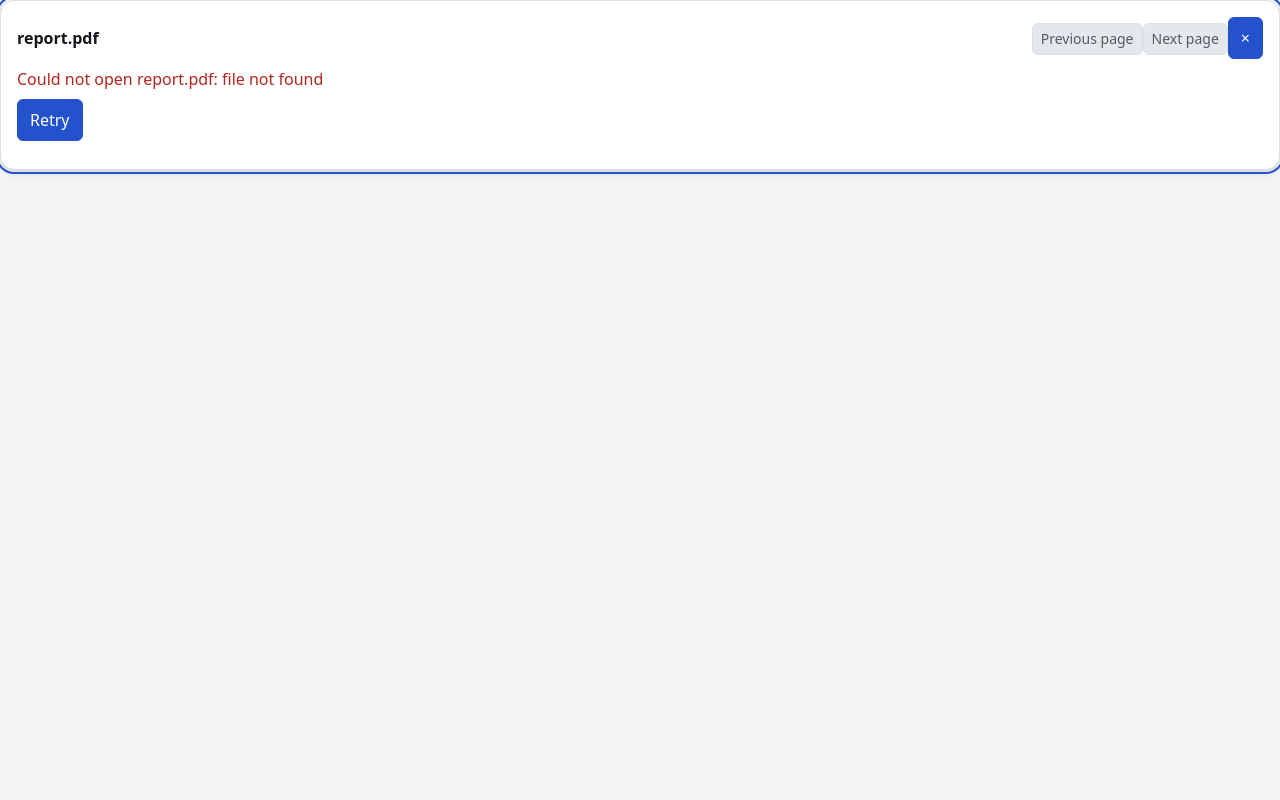
Test: PdfViewer › retries a PDF that failed to open
expect the message reads "Could not open report.pdf: file not found": met, box [17, 68, 323, 90]
Click the button "Retry": (50, 120) [17, 99, 82, 141]
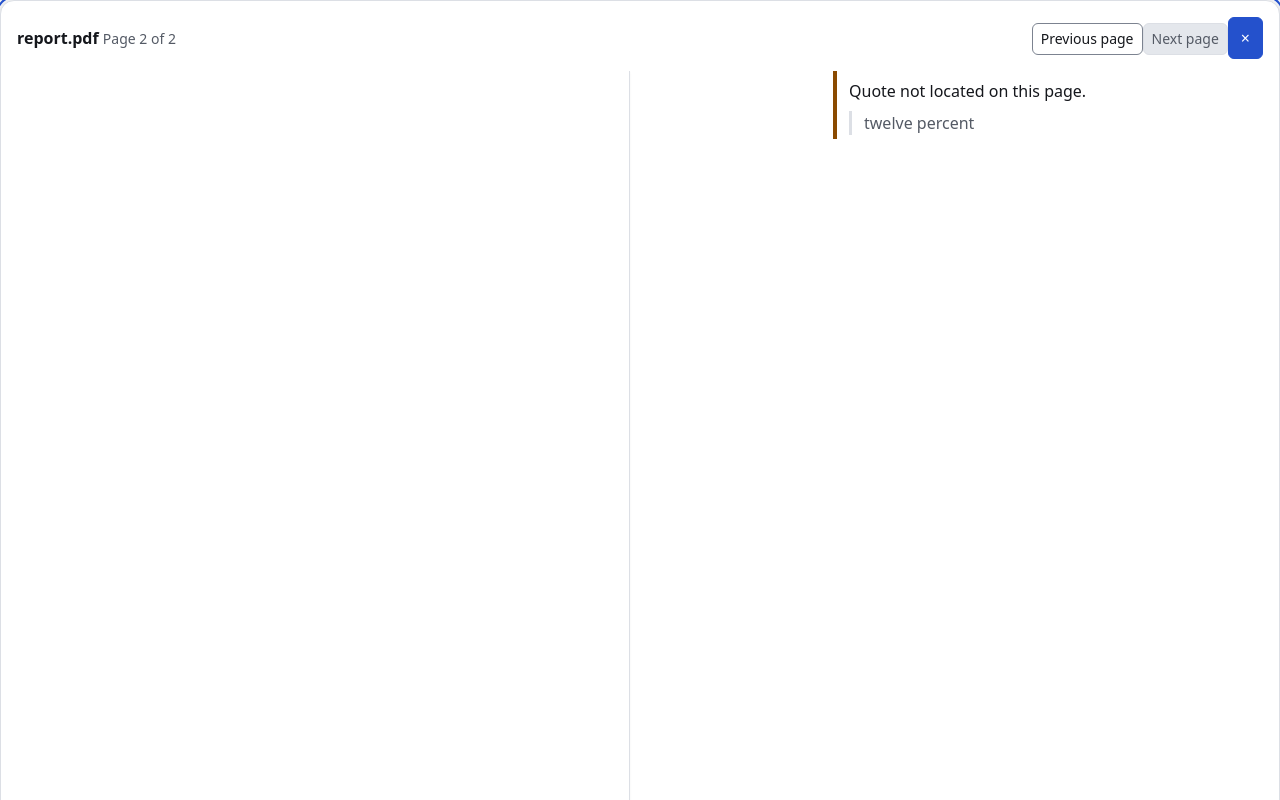
expect the text "Page 2 of 2" is shown: met, box [103, 29, 176, 48]
expect the button "Retry" is gone: met
